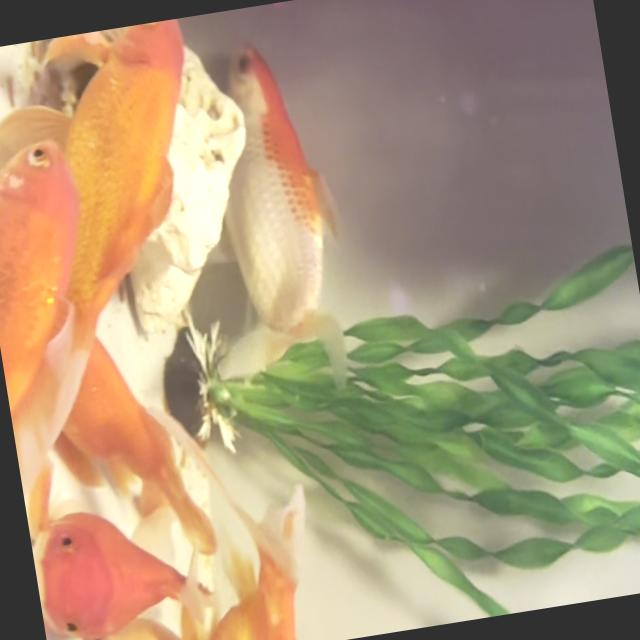fish: (0, 116, 158, 640), (11, 18, 222, 326), (200, 32, 354, 348), (125, 465, 324, 640), (24, 473, 211, 640), (70, 609, 217, 640)
